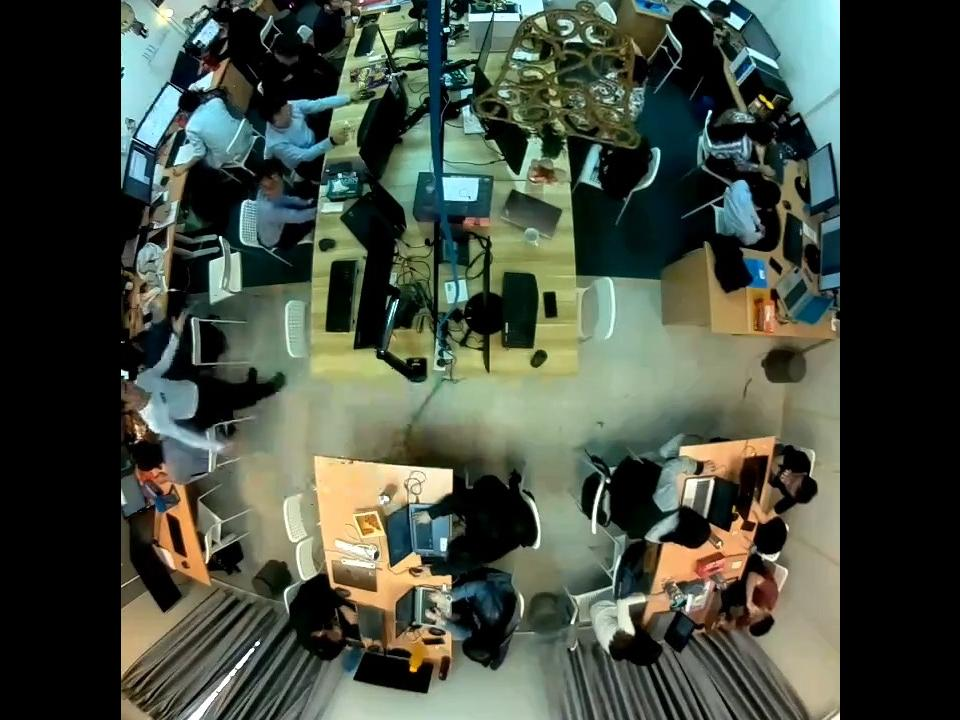name-tag: (156, 390, 168, 408)
